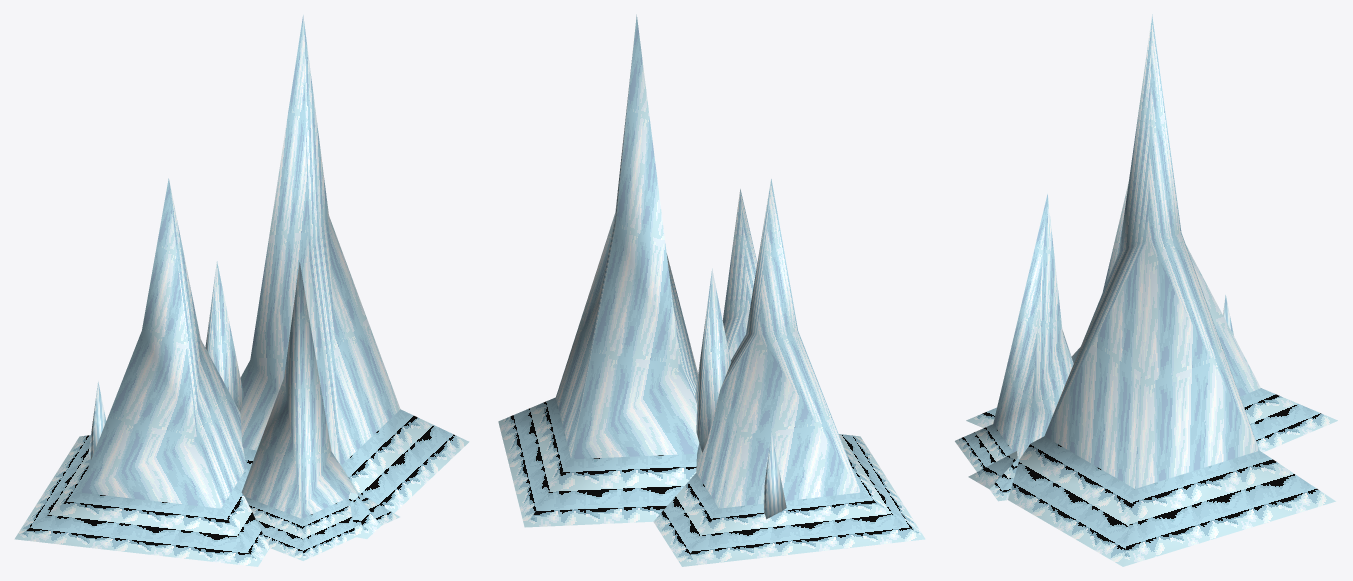
File: 3158IMFY03_10.gltf
3 views of the same model, side by side, from view 1: azimuth 30°, elevation 25°; view 2: azimuth 150°, elevation 25°; view 3: azimuth 270°, elevation 25° (orthographic). The views are drawn at different scales.
Parts seen in each view (by area): view 1: 3158IMFY03_10; view 2: 3158IMFY03_10; view 3: 3158IMFY03_10.
Boxes of the visible parts, <box> form: 3158IMFY03_10: <box>14,15,469,566</box>; 3158IMFY03_10: <box>498,14,925,566</box>; 3158IMFY03_10: <box>955,14,1337,566</box>.
Size of the model in its own units: 0.8735 by 0.8601 by 0.6299.
Materials: 2 (2 with a texture image).
